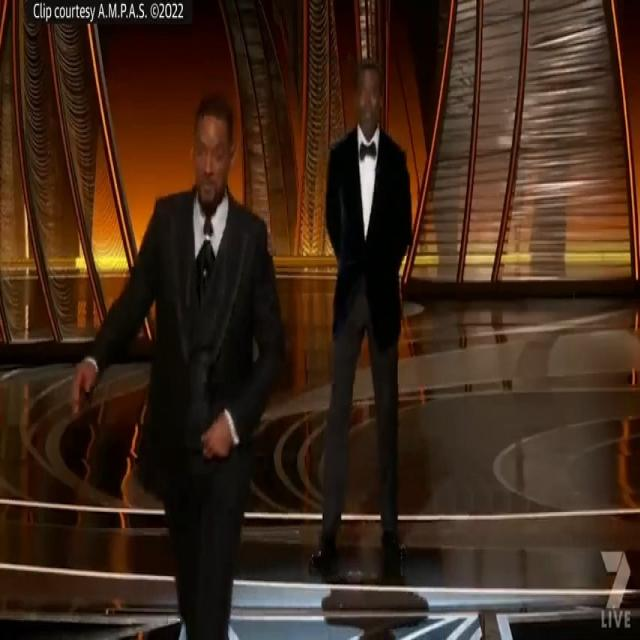non-fight: (66, 78, 290, 640), (308, 49, 424, 604)
